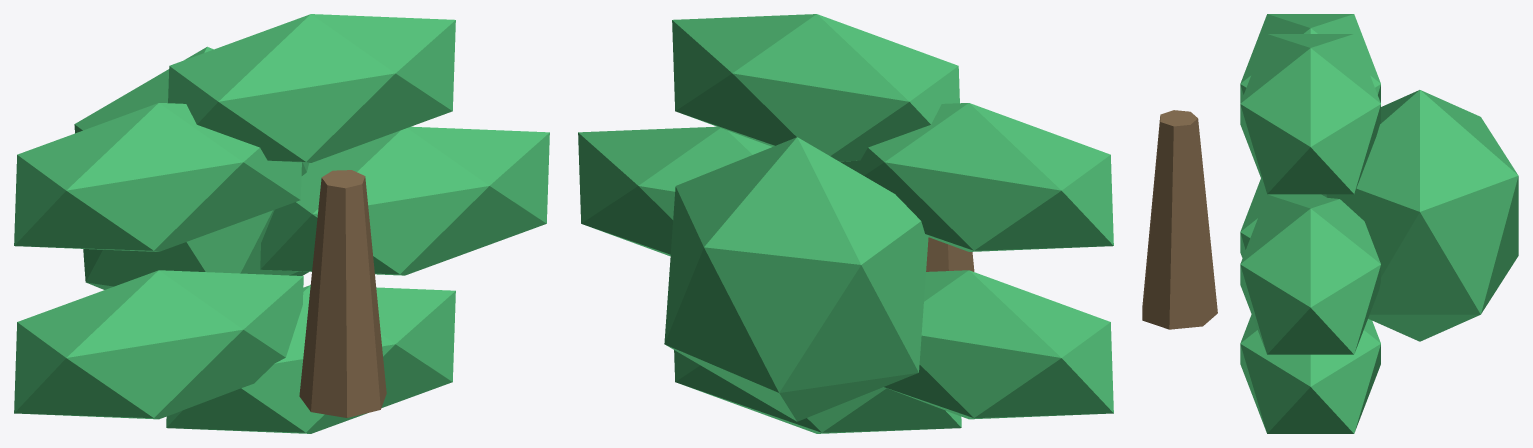
File: drk_bush_green.fbx
The picture shows the model from 3 angles, left to right: view 1: azimuth 30°, elevation 25°; view 2: azimuth 150°, elevation 25°; view 3: azimuth 270°, elevation 25°; orthographic projection. The views are drawn at different scales.
Visible parts, largest first — view 1: GEO-leaf.008, GEO-leaf.006, GEO-leaf.007, GEO-leaf.005, GEO-bush_stem.001, GEO-leaf.009, GEO-leaf_top.001; view 2: GEO-leaf_top.001, GEO-leaf.006, GEO-leaf.007, GEO-leaf.008, GEO-leaf.005, GEO-leaf.009, GEO-bush_stem.001; view 3: GEO-leaf_top.001, GEO-leaf.006, GEO-leaf.005, GEO-bush_stem.001, GEO-leaf.009, GEO-leaf.007, GEO-leaf.008.
Boxes of the visible parts, bbox=[...] form: GEO-leaf.008: bbox=[14, 270, 303, 419]; GEO-leaf.006: bbox=[168, 14, 455, 162]; GEO-leaf.007: bbox=[14, 103, 301, 251]; GEO-leaf.005: bbox=[260, 126, 549, 275]; GEO-bush_stem.001: bbox=[299, 170, 386, 417]; GEO-leaf.009: bbox=[166, 285, 455, 433]; GEO-leaf_top.001: bbox=[74, 46, 309, 289]; GEO-leaf_top.001: bbox=[664, 137, 928, 421]; GEO-leaf.006: bbox=[672, 14, 959, 161]; GEO-leaf.007: bbox=[840, 103, 1113, 251]; GEO-leaf.008: bbox=[884, 270, 1113, 419]; GEO-leaf.005: bbox=[578, 126, 771, 256]; GEO-leaf.009: bbox=[674, 350, 961, 433]; GEO-bush_stem.001: bbox=[926, 237, 974, 271]; GEO-leaf_top.001: bbox=[1321, 90, 1518, 341]; GEO-leaf.006: bbox=[1240, 34, 1380, 194]; GEO-leaf.005: bbox=[1240, 194, 1380, 354]; GEO-bush_stem.001: bbox=[1142, 110, 1217, 329]; GEO-leaf.009: bbox=[1240, 314, 1380, 433]; GEO-leaf.007: bbox=[1240, 14, 1380, 102]; GEO-leaf.008: bbox=[1240, 179, 1266, 257].
Bounding box in the file's own units: 165 × 124 × 114.
